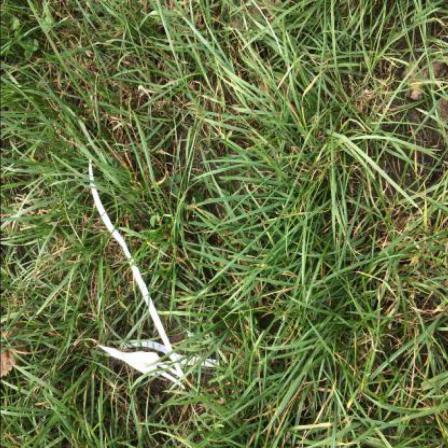Other litter: (89, 161, 184, 380), (99, 346, 185, 390), (122, 342, 220, 369)
